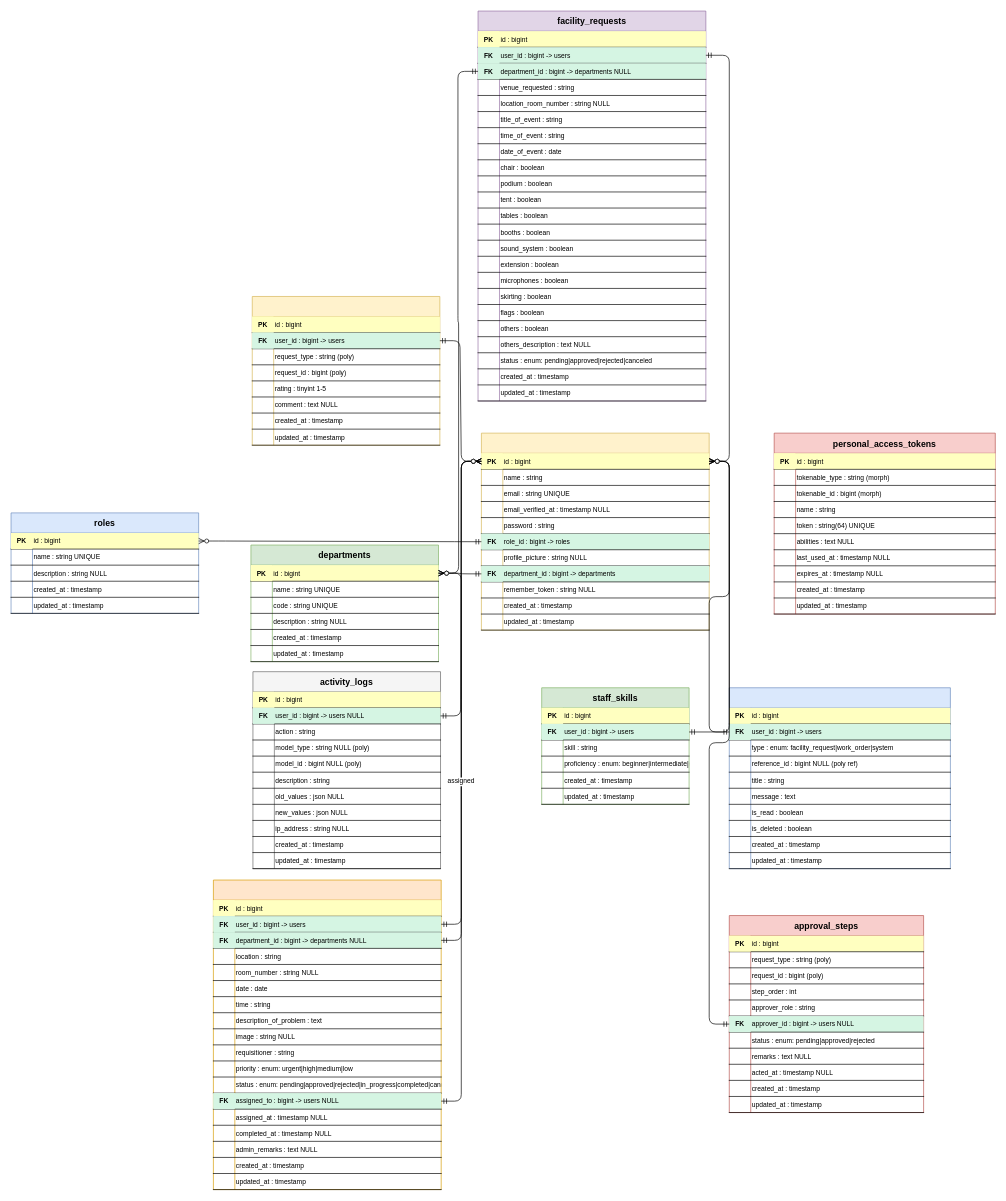
This 1006x1201 diagram has some shape labels left out. The box of each missing label's shape, as (x1, y1, x2, y2) in pixels:
feedbacks: (252, 296, 440, 445)
notifications: (729, 687, 950, 869)
users: (481, 432, 709, 630)
work_orders: (213, 879, 441, 1190)
